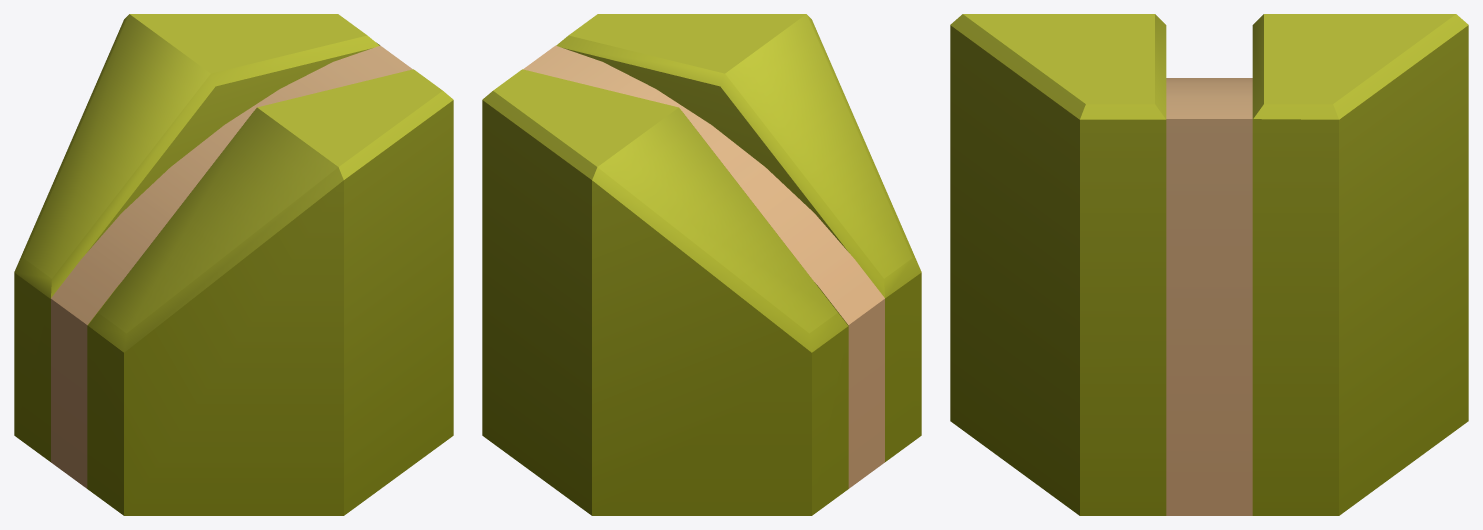
The model's file is hex_road_A_sloped_high.glb.
3 renders of one model, left to right at view 1: azimuth 30°, elevation 25°; view 2: azimuth 150°, elevation 25°; view 3: azimuth 270°, elevation 25°, orthographic. The views are drawn at different scales.
Visible parts, largest first — view 1: hex_road_A_sloped_high; view 2: hex_road_A_sloped_high; view 3: hex_road_A_sloped_high.
Boxes of the visible parts, left/top/right/bottom form: hex_road_A_sloped_high: left=14, top=14, right=453, bottom=515; hex_road_A_sloped_high: left=482, top=14, right=921, bottom=515; hex_road_A_sloped_high: left=950, top=14, right=1468, bottom=515.
Bounding box in the file's own units: 2 × 2 × 2.31.
Materials: 1 (1 with a texture image).
